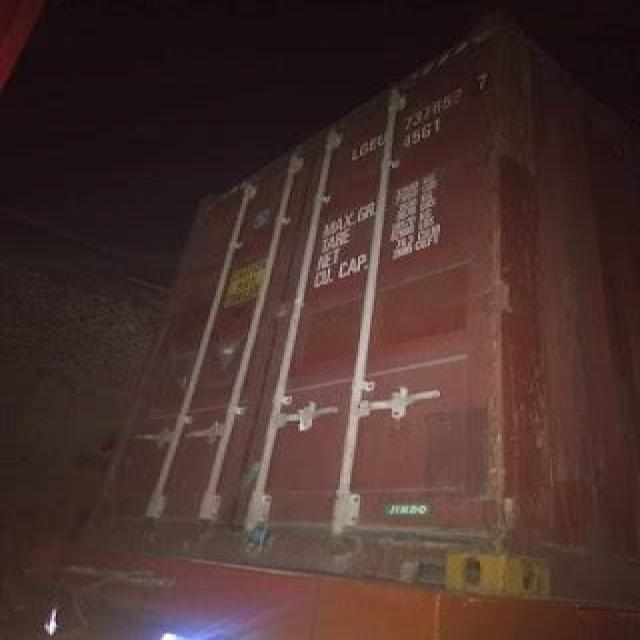ISO: (404, 119, 444, 148)
container_number: (349, 68, 492, 160)
